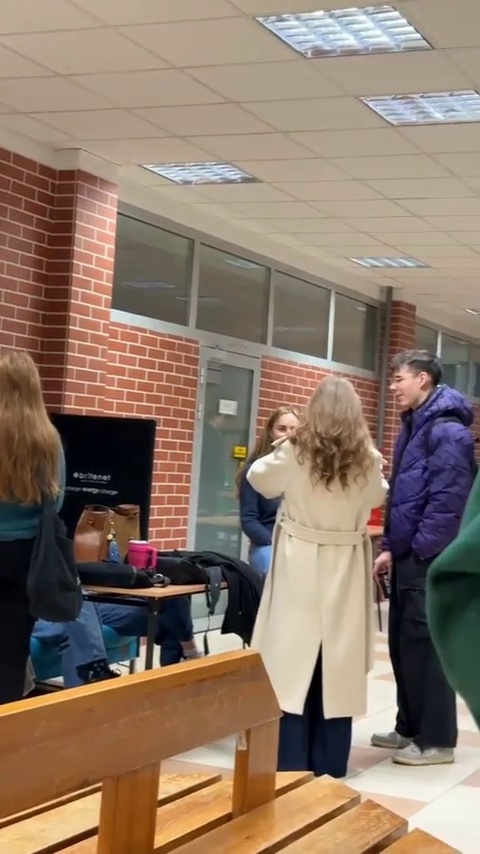no vest: (250, 363, 380, 727), (387, 344, 471, 731), (0, 351, 81, 718)
